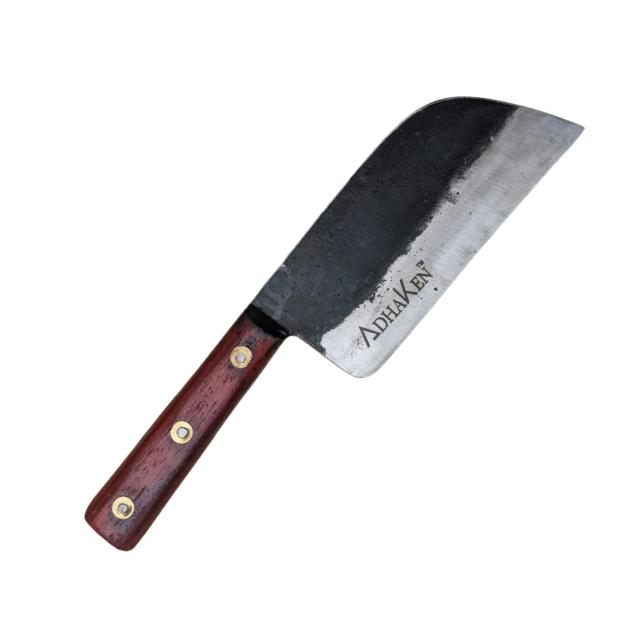Knife: (78, 85, 596, 562)
